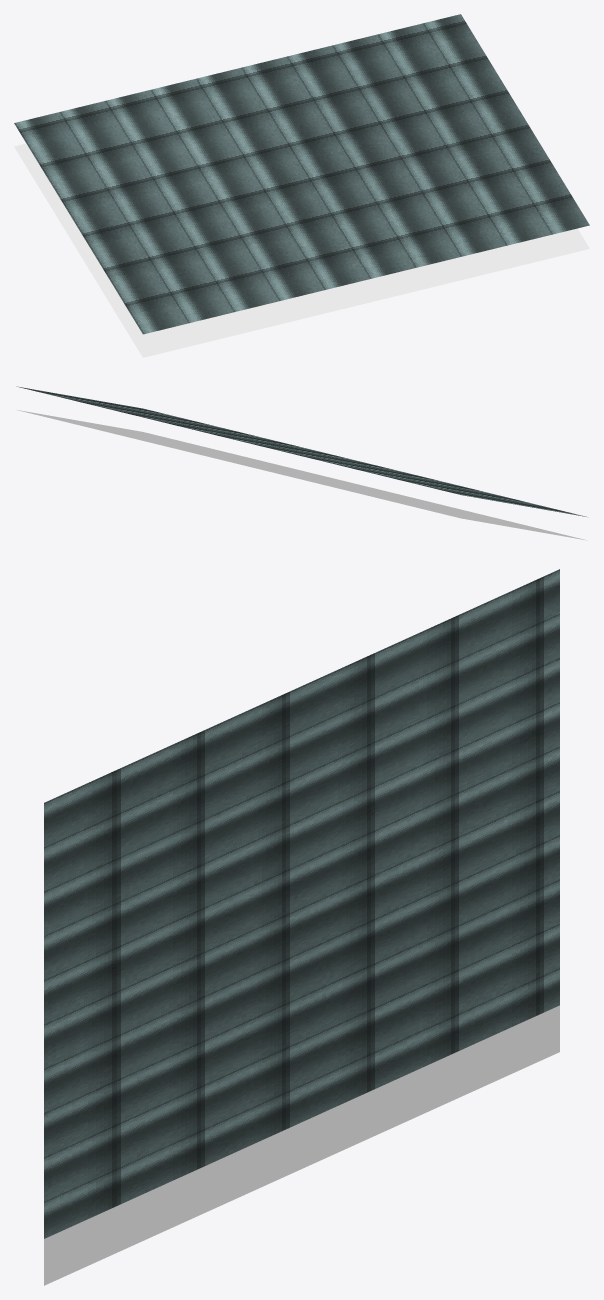
File: roof_mid_4x2.glb
3 views of the same model, one above another, from view 1: azimuth 30°, elevation 25°; view 2: azimuth 150°, elevation 25°; view 3: azimuth 270°, elevation 25° (orthographic). The views are drawn at different scales.
Parts seen in each view (by area): view 1: roof_mid_4x2; view 2: roof_mid_4x2; view 3: roof_mid_4x2.
Boxes of the visible parts, x1=… form: roof_mid_4x2: x1=14, y1=14, x2=589, y2=357; roof_mid_4x2: x1=16, y1=386, x2=587, y2=540; roof_mid_4x2: x1=44, y1=569, x2=559, y2=1285.
Bounding box in the file's own units: 4 × 1.2 × 2.
Materials: 2 (1 with a texture image).
